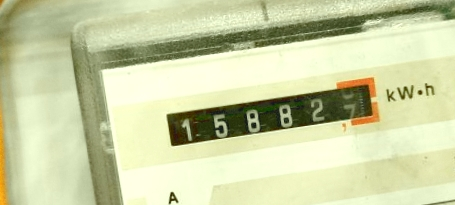1: (177, 114, 195, 143)
2: (307, 94, 327, 124)
5: (209, 110, 231, 139)
7: (340, 100, 358, 119)
8: (242, 105, 262, 135), (276, 100, 294, 130)
screen: (150, 67, 391, 161)
